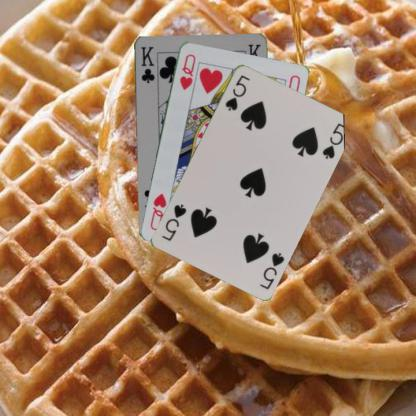5s: (257, 249, 286, 291), (222, 72, 252, 112)
Kc: (138, 44, 156, 84)
Qh: (177, 51, 196, 91)
